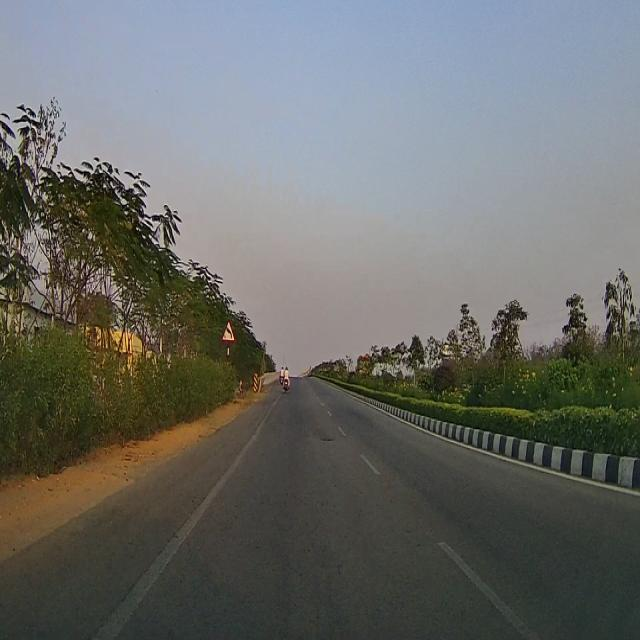left-hand-curve: (222, 318, 235, 340)
